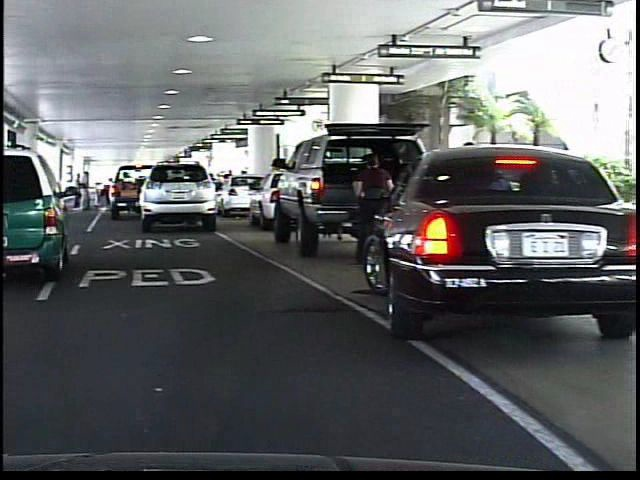person: (345, 149, 396, 260)
